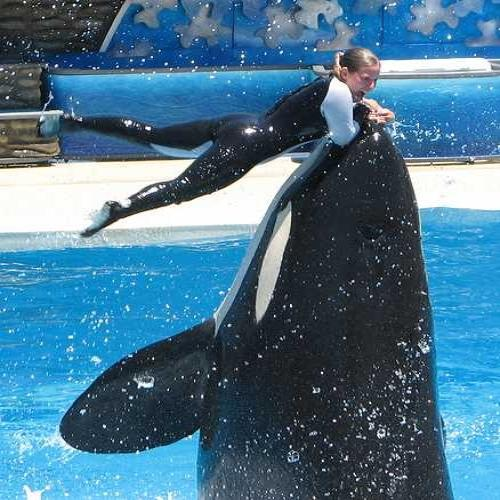killer_whale-endangered: (140, 113, 479, 500)
